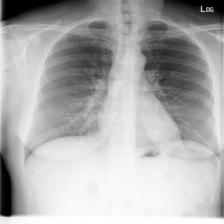normal: (18, 15, 224, 175)
